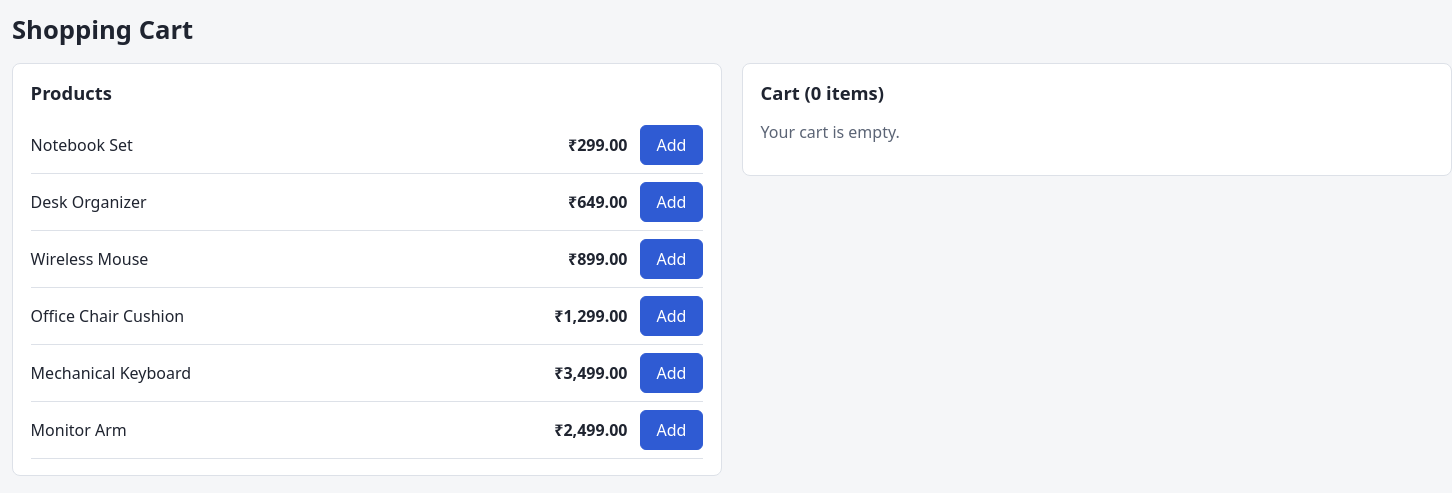
Test: Shopping cart › applies a valid discount code and rejects an unknown one
The image size is (1452, 493).
Click the button with aria-label "Add Mechanical Keyboard" at coordinates (671, 373), box [640,353,703,393]
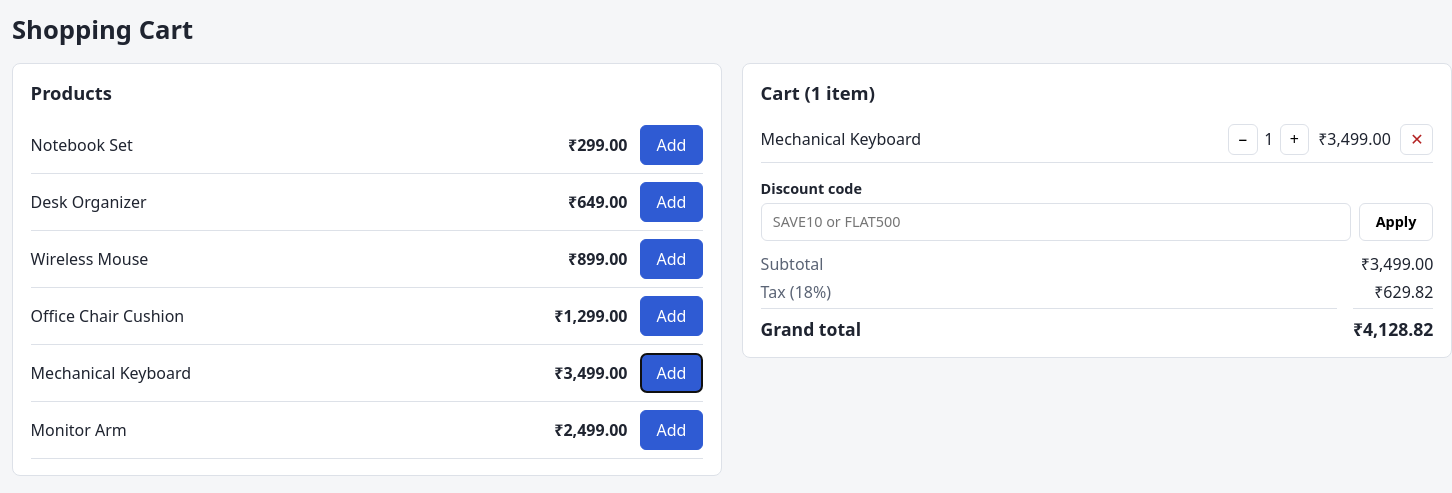
Type "WELCOME" into the field labelled "Discount code" at coordinates (1056, 222), box [761,202,1351,241]
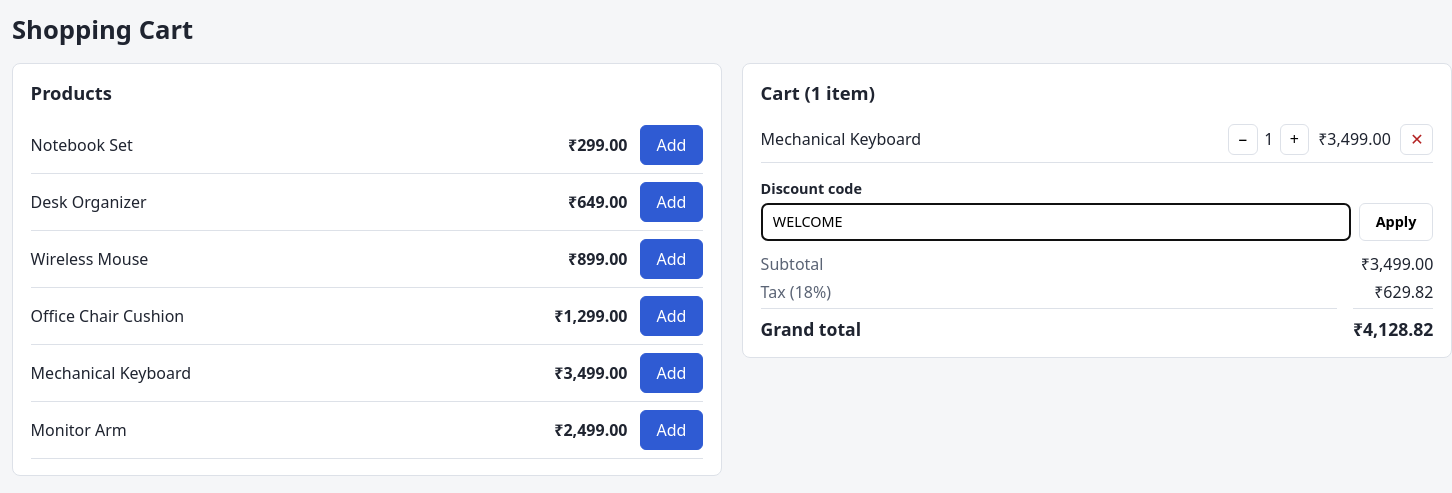
Click the button "Apply" at coordinates (1396, 222), box [1359,202,1433,241]
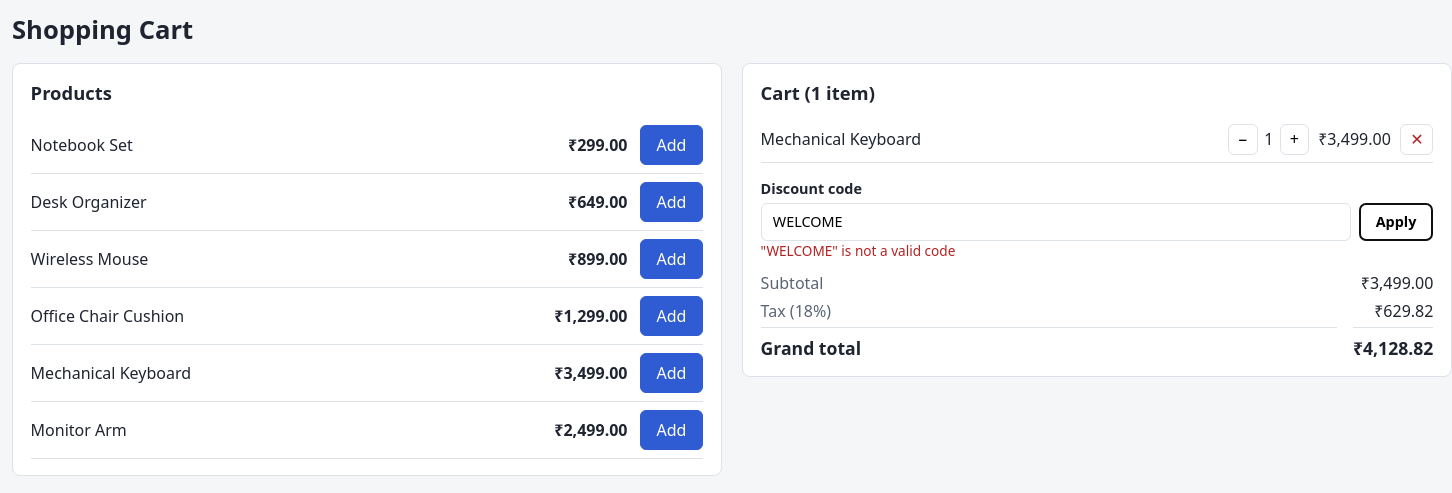
Check: the message reads "\"WELCOME\" is not a valid code", box [761,241,955,260]
Replace the text in the field labelled "Discount code" with "save10" at coordinates (1056, 222), box [761,202,1351,241]
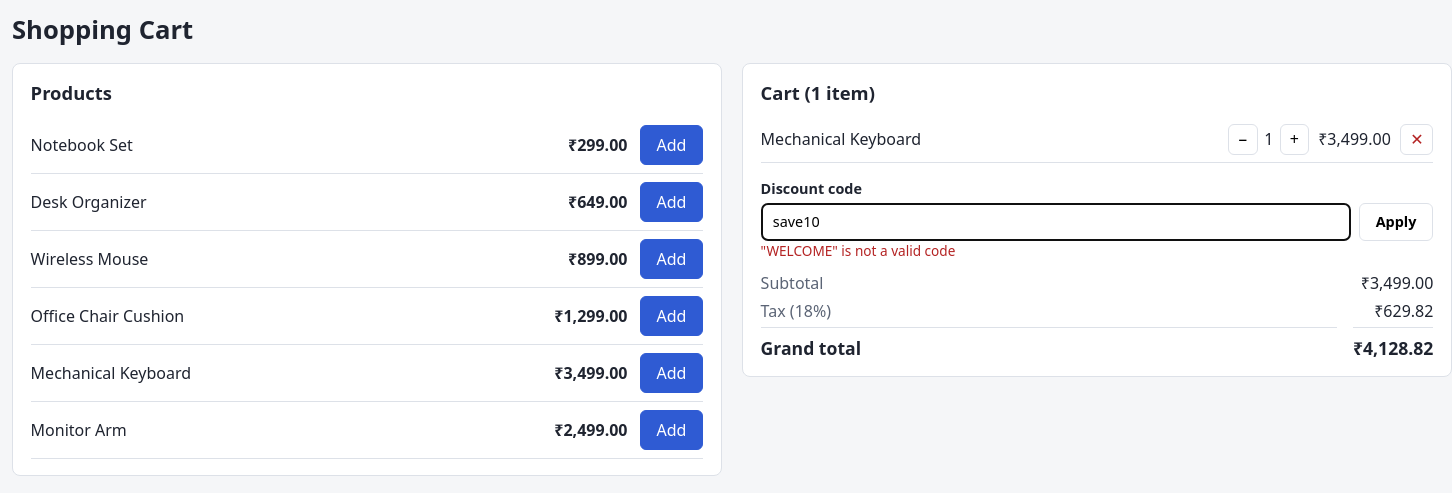
Click the button "Apply" at coordinates (1396, 222), box [1359,202,1433,241]
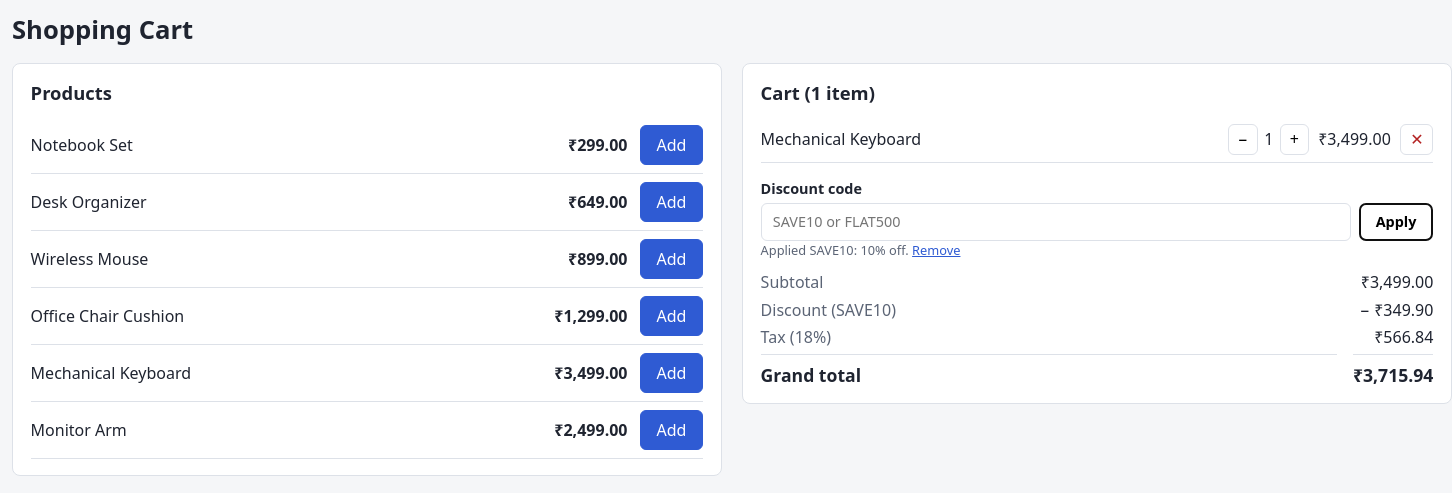
Check: the text "Discount (SAVE10)" is shown, box [761,299,896,321]
Check: the text with test id "grand-total" reads "₹3,715.94", box [1353,363,1433,387]
